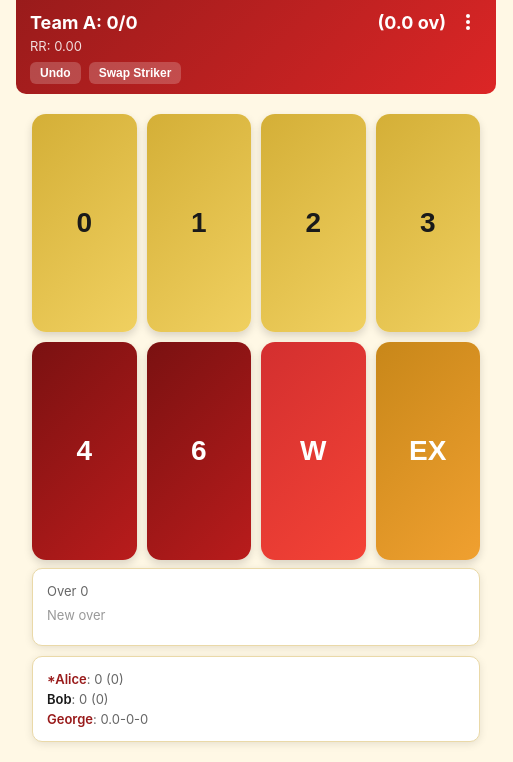
Test case: ScoringV2 - scoring core › records a run and updates the score
Click the button "4": (84, 451) [32,342,136,560]
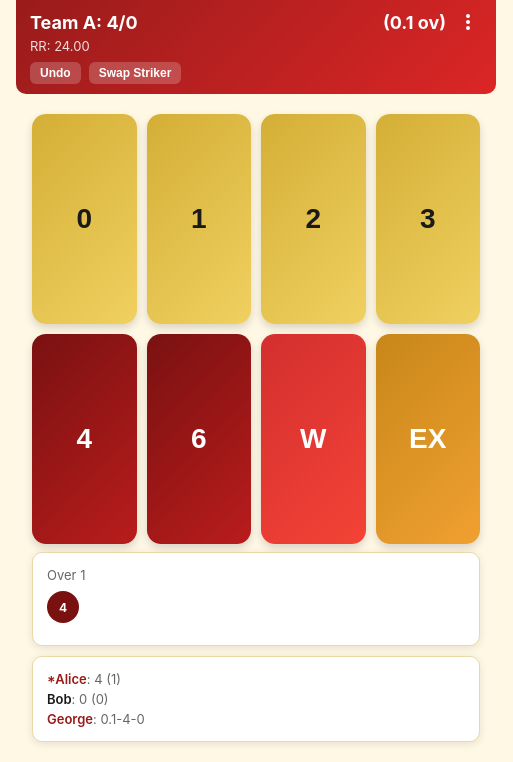
Expected: the text "Team A: 4/0" is shown, [30,12,138,32]
